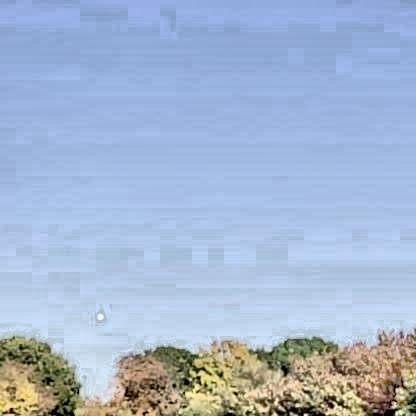golfball: (93, 308, 105, 320)
